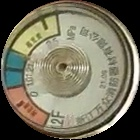green: (2, 51, 27, 88)
red: (6, 88, 51, 130)
yellow: (11, 17, 60, 57)
